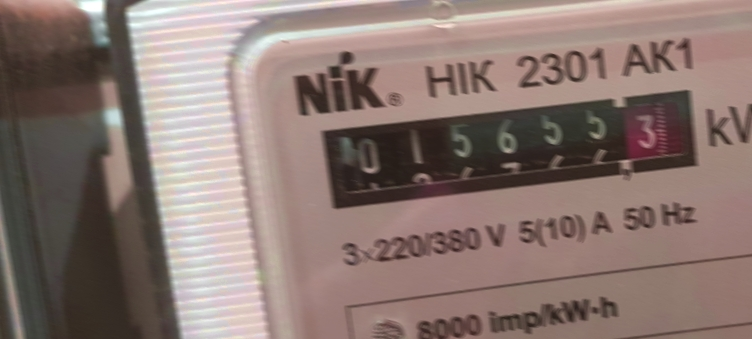0: (352, 133, 382, 177)
1: (404, 127, 427, 167)
3: (633, 112, 657, 150)
5: (445, 122, 474, 160), (538, 113, 564, 147), (585, 108, 607, 142)
6: (492, 118, 519, 156)
screen: (306, 69, 714, 227)
